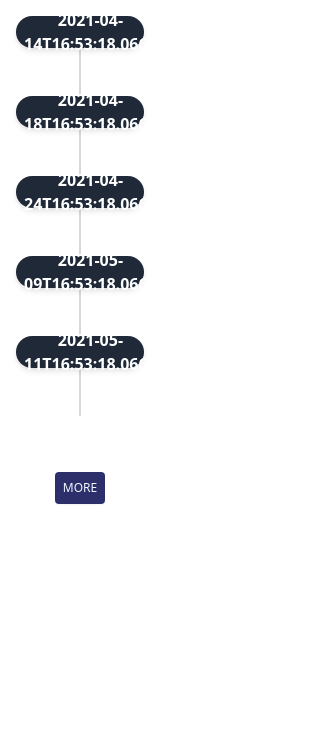
Test: TimeLine › Loading more › Load next blocks by offset
Expected: the number of elements with test id "activities-block" is 5, [16,16,144,48]; [16,96,144,128]; [16,176,144,208]; [16,256,144,288]; [16,336,144,368]
Click the button "More" at (80, 488), box [55,472,105,504]
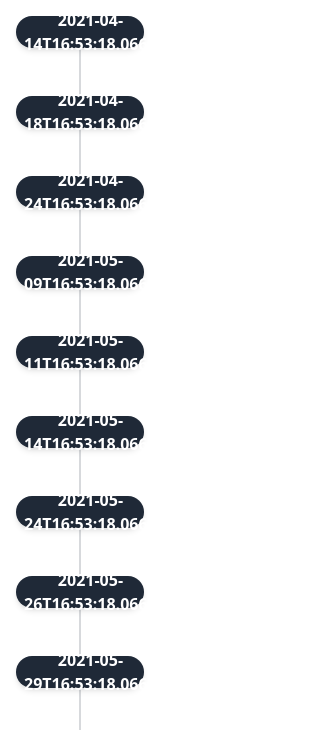
Expected: the number of elements with test id "activities-block" is 10
